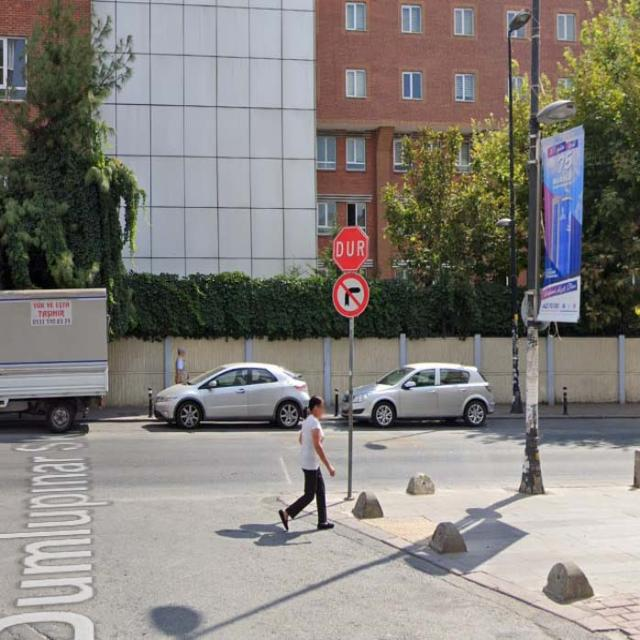dur: (332, 226, 369, 271)
sagadonulmez: (332, 272, 368, 316)
